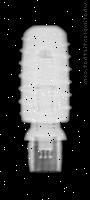Camlog: (19, 24, 70, 173)
